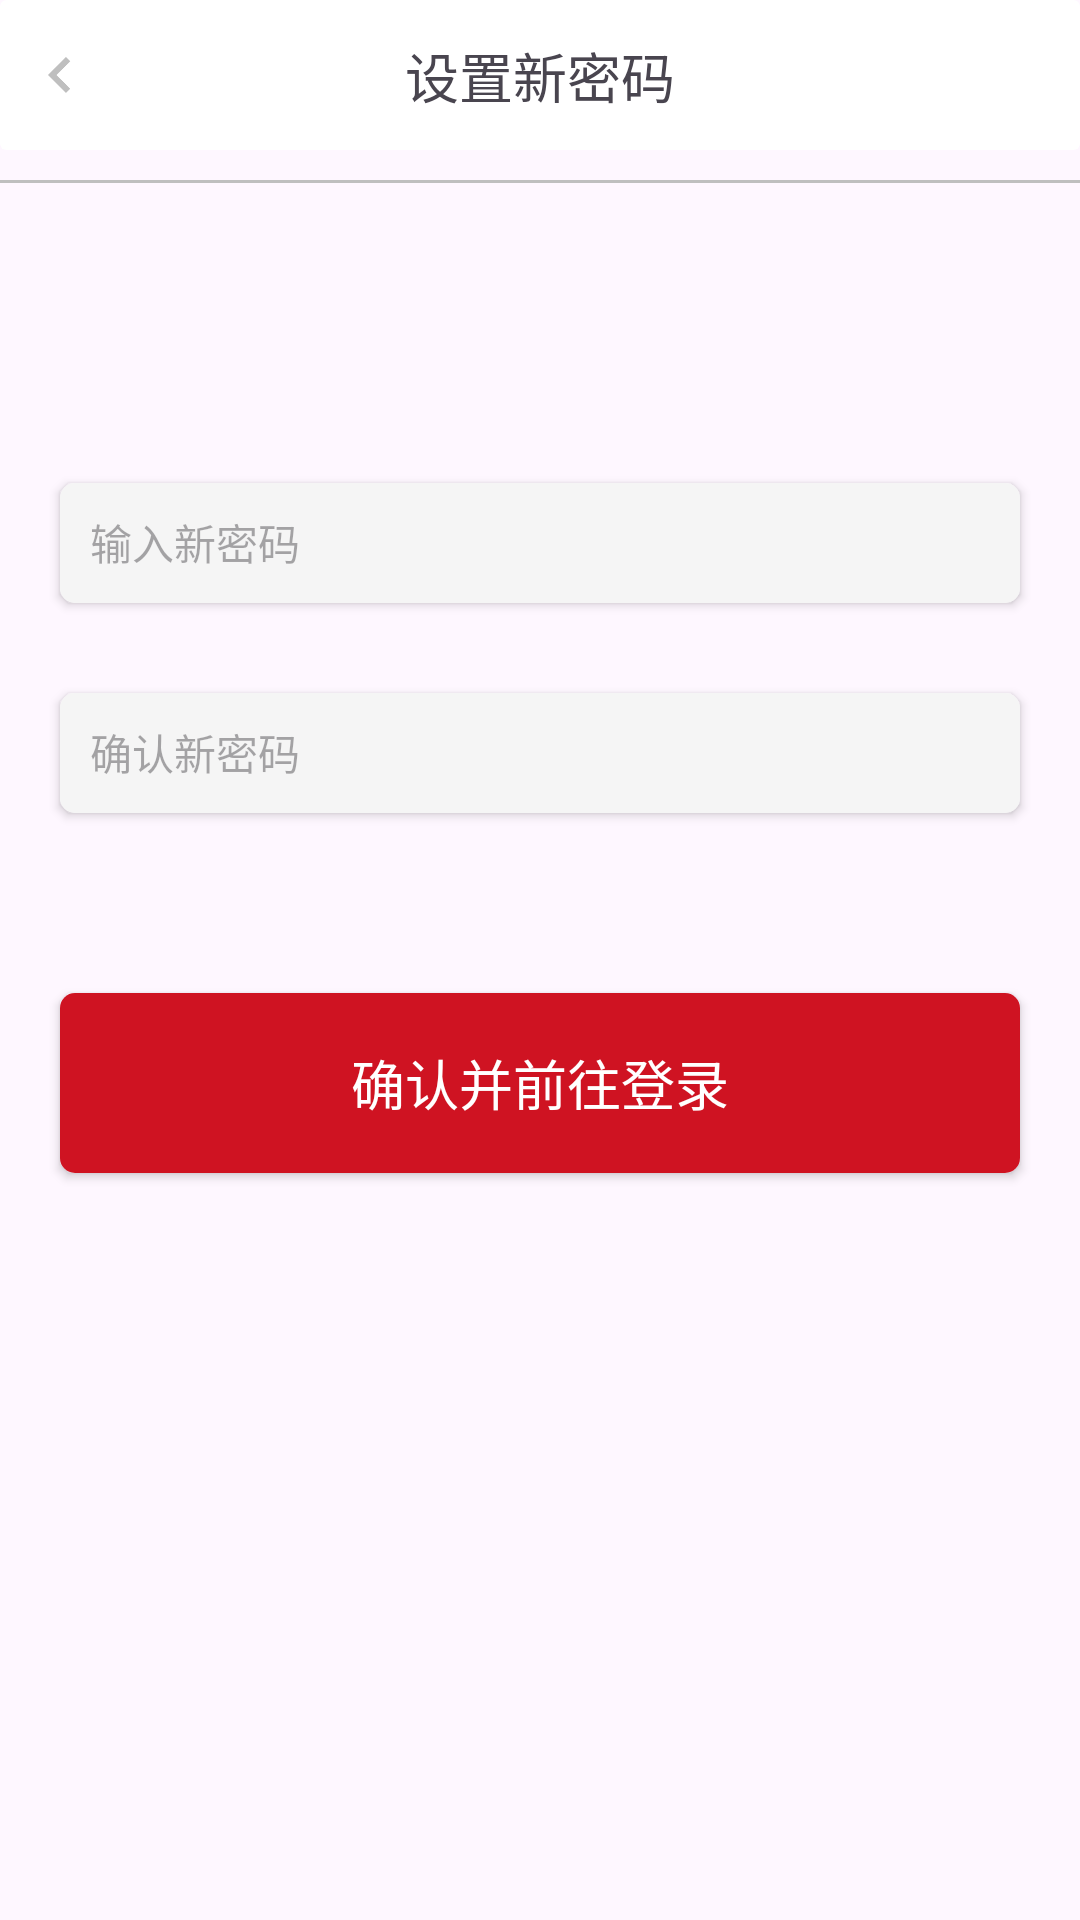

Icon click points for this 1080x1920 phone screenshot, format [x,y]:
left arrow: [59,75]
